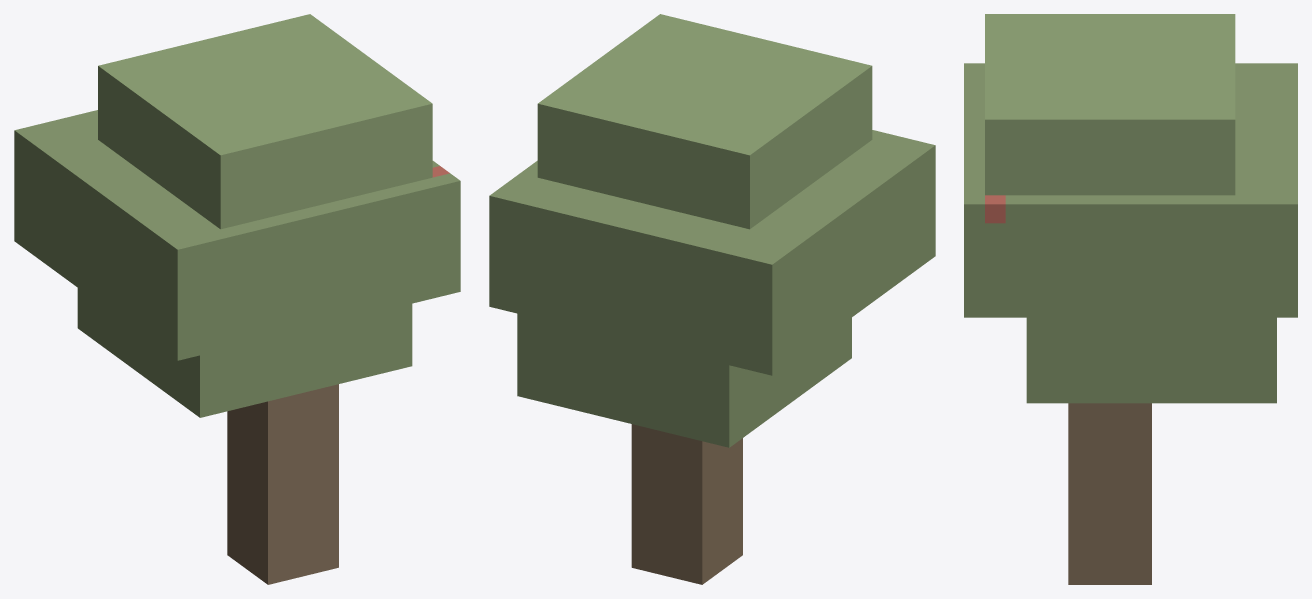
The model's file is avellana_silvestre_03.glb.
3 views of the same model, side by side, from view 1: azimuth 30°, elevation 25°; view 2: azimuth 150°, elevation 25°; view 3: azimuth 270°, elevation 25° (orthographic). The views are drawn at different scales.
Visible parts, largest first — view 1: avellana_silvestre_03; view 2: avellana_silvestre_03; view 3: avellana_silvestre_03.
Part boxes in pixels (left/top/right/bottom): avellana_silvestre_03: left=14, top=14, right=460, bottom=584; avellana_silvestre_03: left=489, top=14, right=935, bottom=584; avellana_silvestre_03: left=964, top=14, right=1297, bottom=584.
Bounding box in the file's own units: 1.6 × 2.6 × 1.6.
